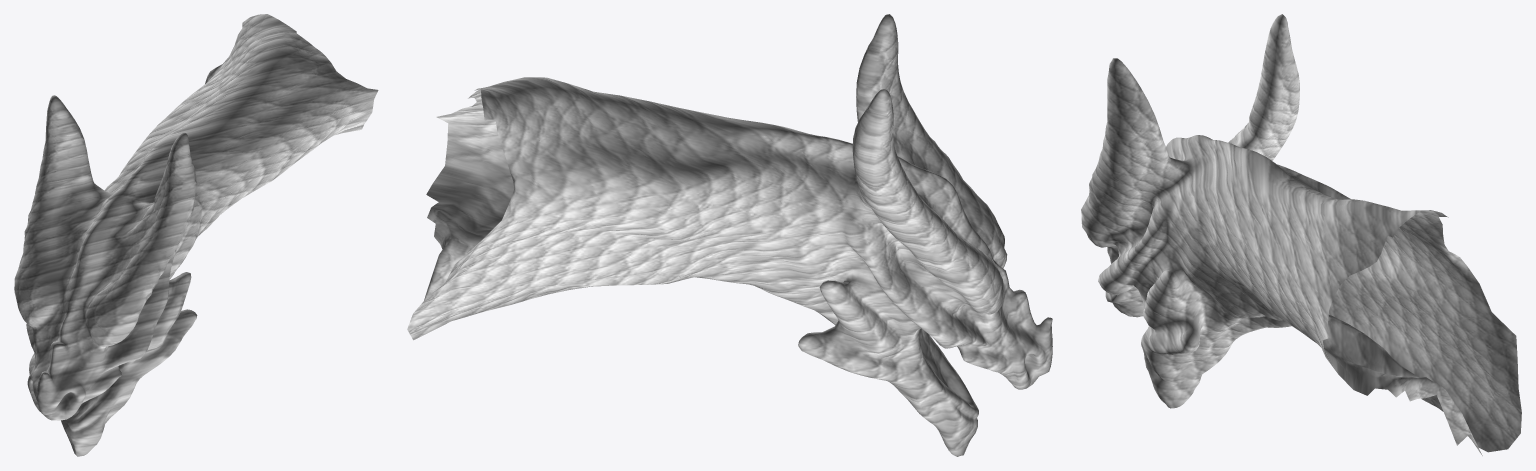
The model's file is Ca_IzD.obj.
The picture shows the model from 3 angles, left to right: view 1: azimuth 30°, elevation 25°; view 2: azimuth 150°, elevation 25°; view 3: azimuth 270°, elevation 25°; orthographic projection. The views are drawn at different scales.
Parts seen in each view (by area): view 1: CabezaIzD; view 2: CabezaIzD; view 3: CabezaIzD.
Part boxes in pixels (<box>): CabezaIzD: <box>14,14,378,456</box>; CabezaIzD: <box>407,14,1052,456</box>; CabezaIzD: <box>1081,14,1521,455</box>.
Size of the model in its own units: 2.9 by 2.15 by 2.13.
1 material, 1 textured.
